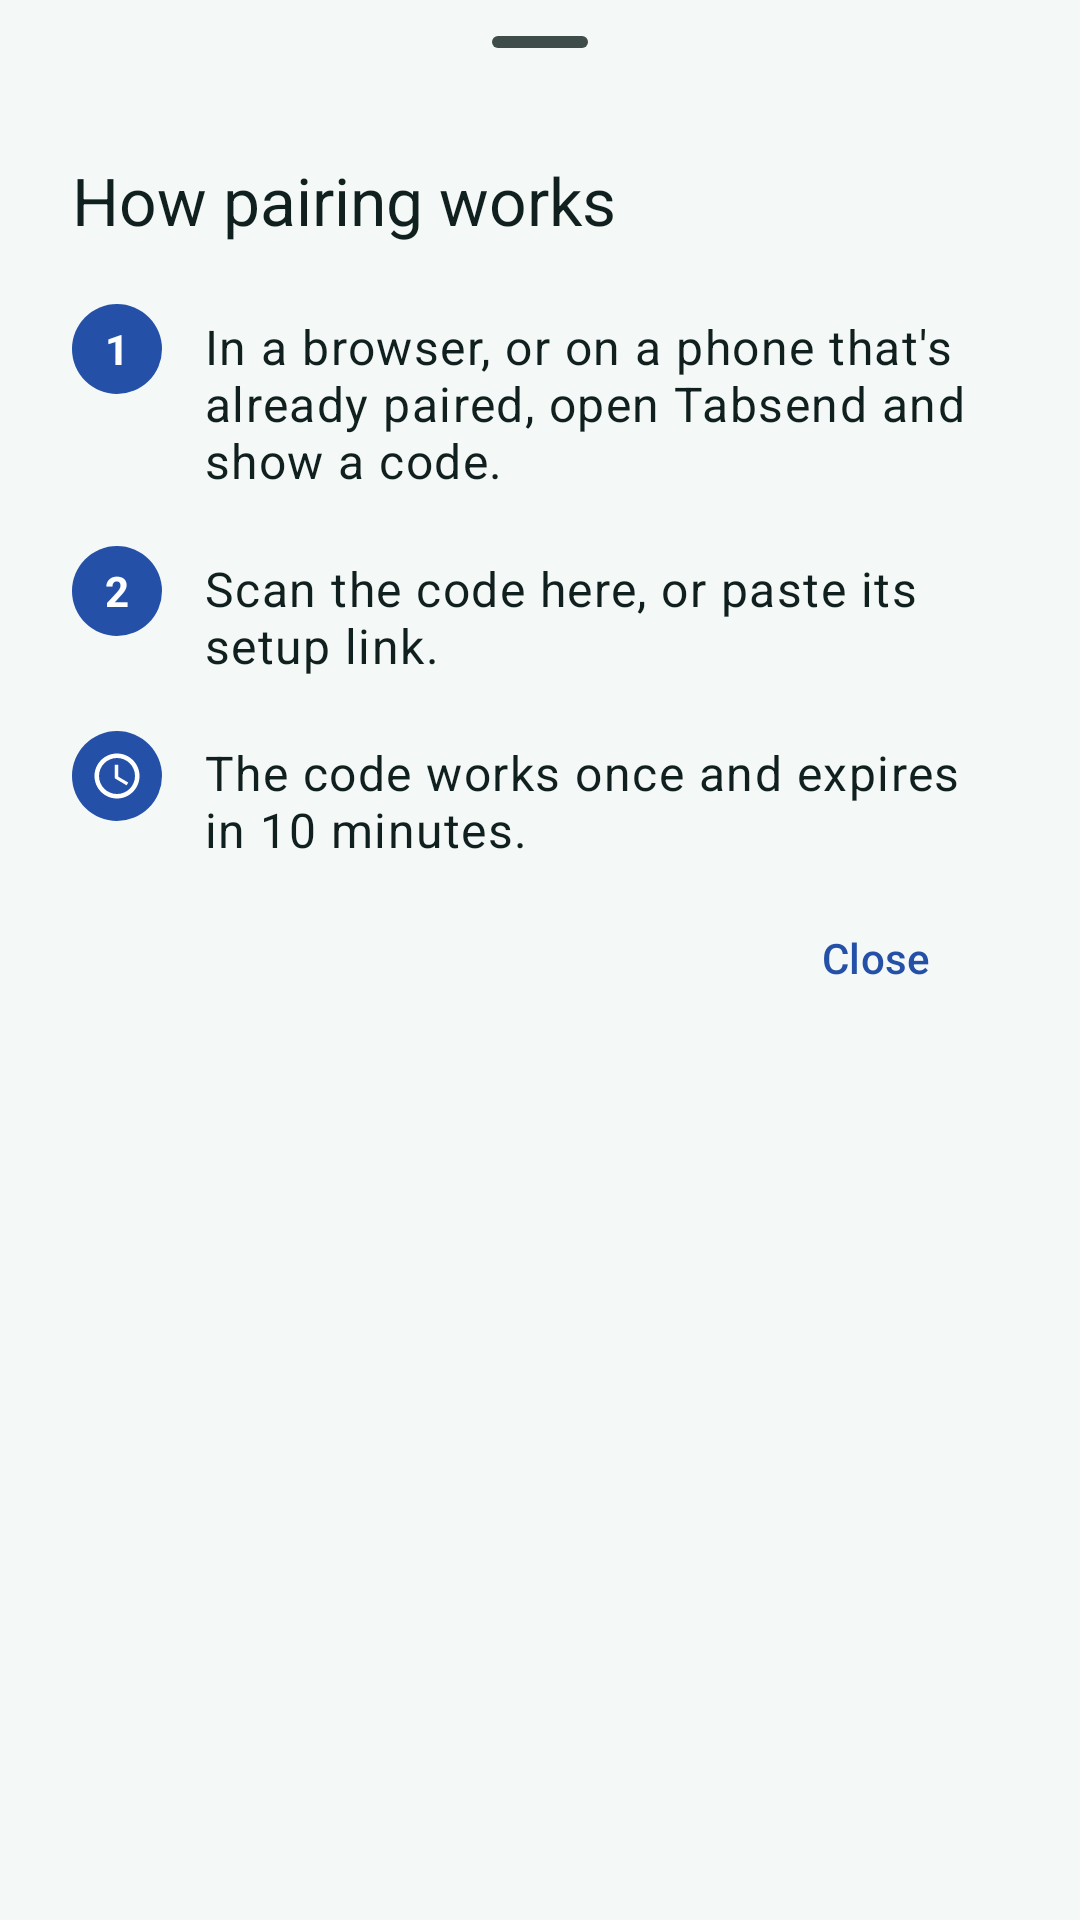

Icons on this 1080w x 1920h Android screen, each with its box as (x1, y1, x2, y2):
clock: (72, 731, 162, 821)
